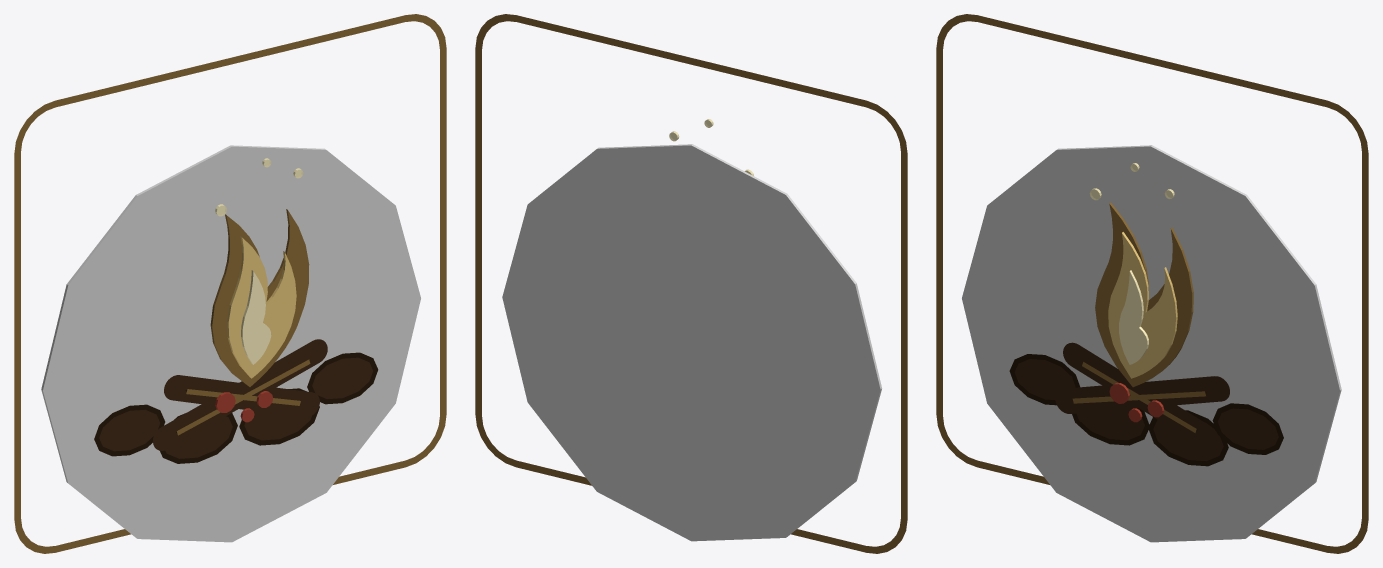
The model's file is obj-koster-dvora.glb.
3 views of the same model, side by side, from view 1: azimuth 30°, elevation 25°; view 2: azimuth 150°, elevation 25°; view 3: azimuth 330°, elevation 25° (orthographic).
Parts seen in each view (by area): view 1: obj-koster-dvora; view 2: obj-koster-dvora; view 3: obj-koster-dvora.
Part boxes in pixels (<box>): obj-koster-dvora: <box>14,14,446,553</box>; obj-koster-dvora: <box>475,14,907,553</box>; obj-koster-dvora: <box>936,14,1368,553</box>.
Bounding box in the file's own units: 0.3808 × 0.4071 × 0.0425.
